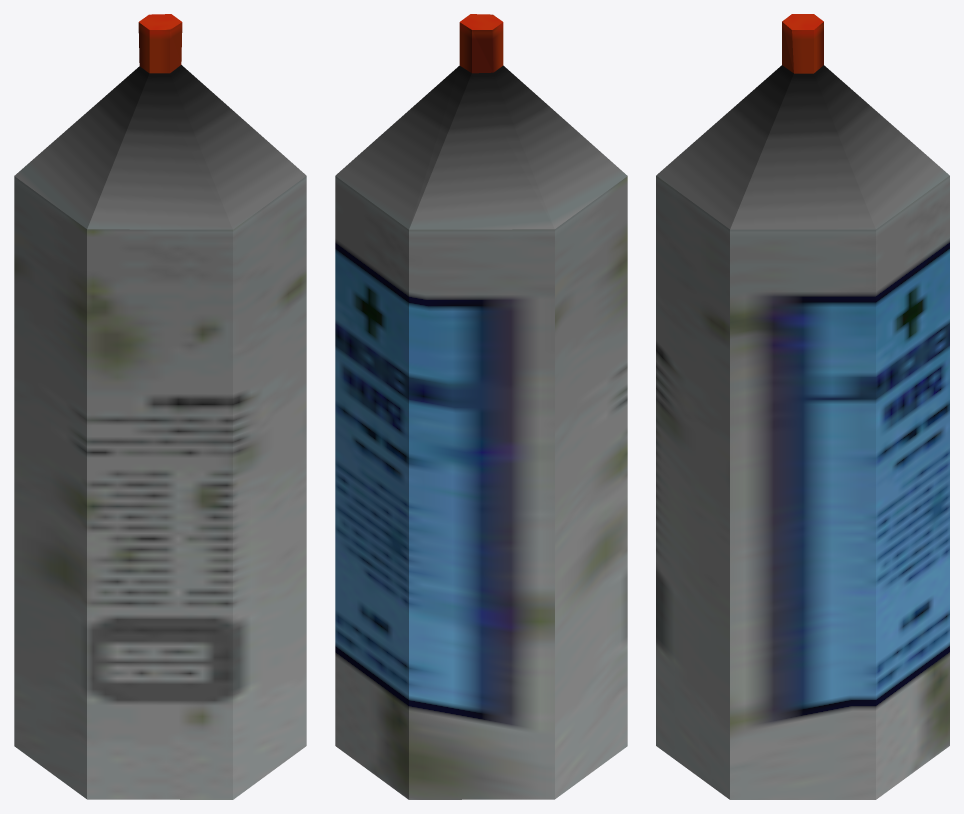
Rendered from RE15_ROOM4050_m03_spraydose_rot.obj.
3 renders of one model, left to right at view 1: azimuth 30°, elevation 25°; view 2: azimuth 150°, elevation 25°; view 3: azimuth 270°, elevation 25°, orthographic.
Size of the model in its own units: 127 by 400 by 147.
Materials: 1 (1 with a texture image).
